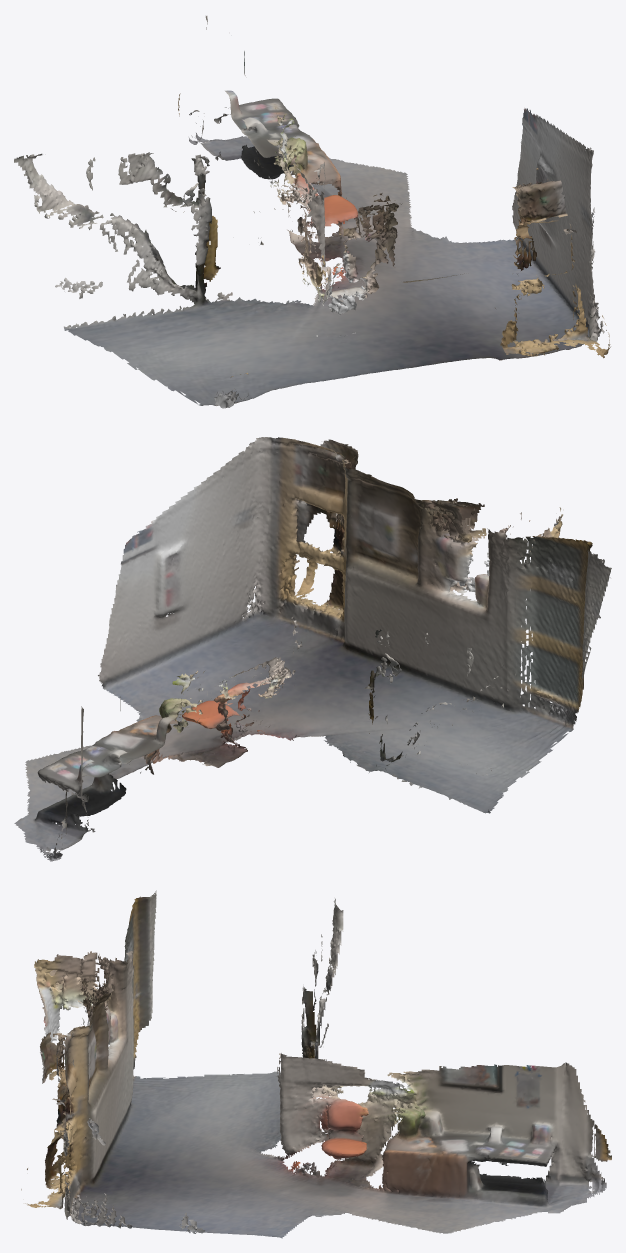
The model's file is scan-d61e56e54003.glb.
3 renders of one model, top to bottom at view 1: azimuth 30°, elevation 25°; view 2: azimuth 150°, elevation 25°; view 3: azimuth 270°, elevation 25°, orthographic. The views are drawn at different scales.
Size of the model in its own units: 5.24 by 2.15 by 6.72.
